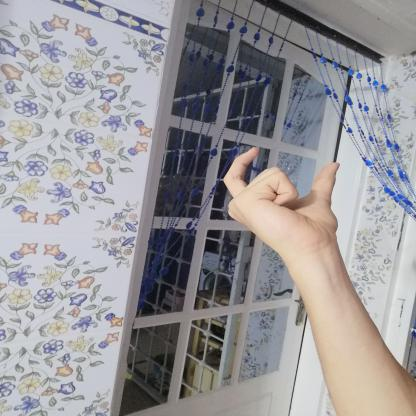NOON: (206, 139, 355, 263)
